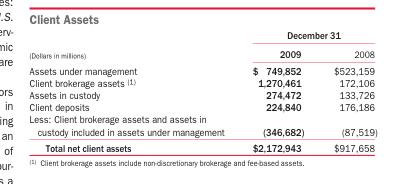table: (28, 29, 376, 153)
table column: (28, 29, 237, 153), (237, 29, 318, 153), (318, 29, 376, 153)
table column header: (28, 29, 376, 62)
table row: (28, 112, 376, 139), (28, 44, 376, 62), (28, 29, 376, 44), (28, 62, 376, 76), (28, 139, 376, 153), (28, 76, 376, 88), (28, 88, 376, 100), (28, 100, 376, 112)
table spanning cell: (28, 29, 237, 62), (237, 29, 376, 44)
